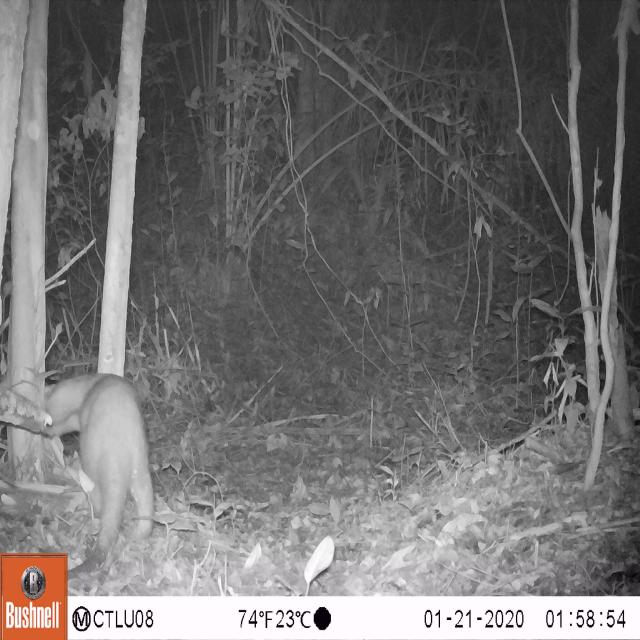Southern Tamandua: (40, 357, 170, 584)
